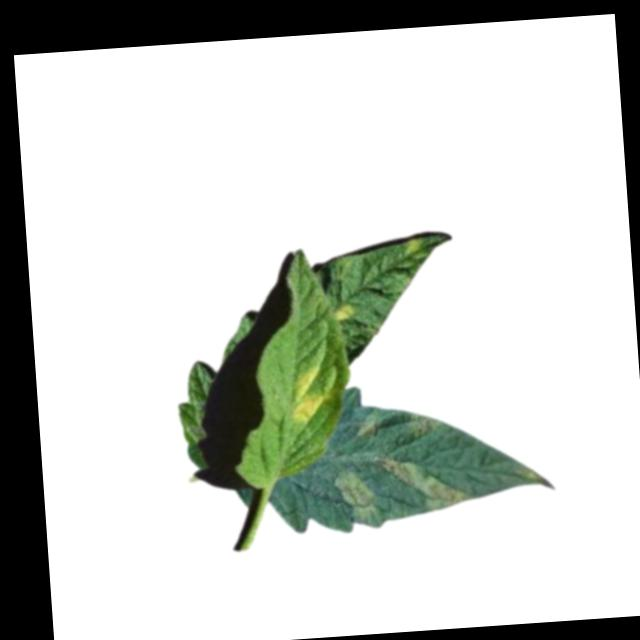Leaf_Mold: (378, 447, 475, 514), (333, 468, 378, 527), (286, 365, 322, 422), (406, 405, 443, 440), (354, 418, 379, 442), (331, 303, 356, 322)
